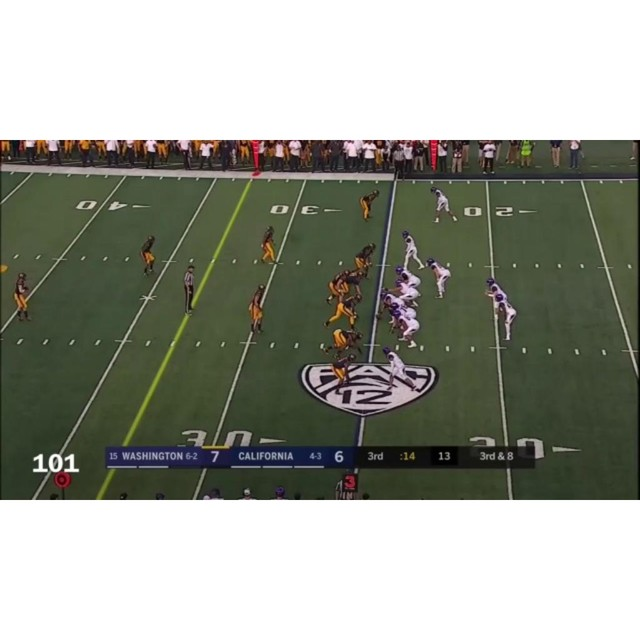american-football-player: (382, 345, 417, 392), (323, 292, 362, 330), (319, 328, 363, 358), (493, 293, 518, 342), (393, 311, 423, 351), (426, 256, 452, 300), (431, 186, 458, 224), (330, 352, 356, 391), (13, 271, 31, 322), (401, 230, 424, 269), (248, 283, 266, 332), (325, 269, 349, 305), (354, 241, 376, 276), (344, 268, 366, 300), (260, 225, 277, 264), (140, 235, 156, 275), (360, 189, 380, 221), (395, 264, 422, 287)
referee: (182, 264, 197, 315)
